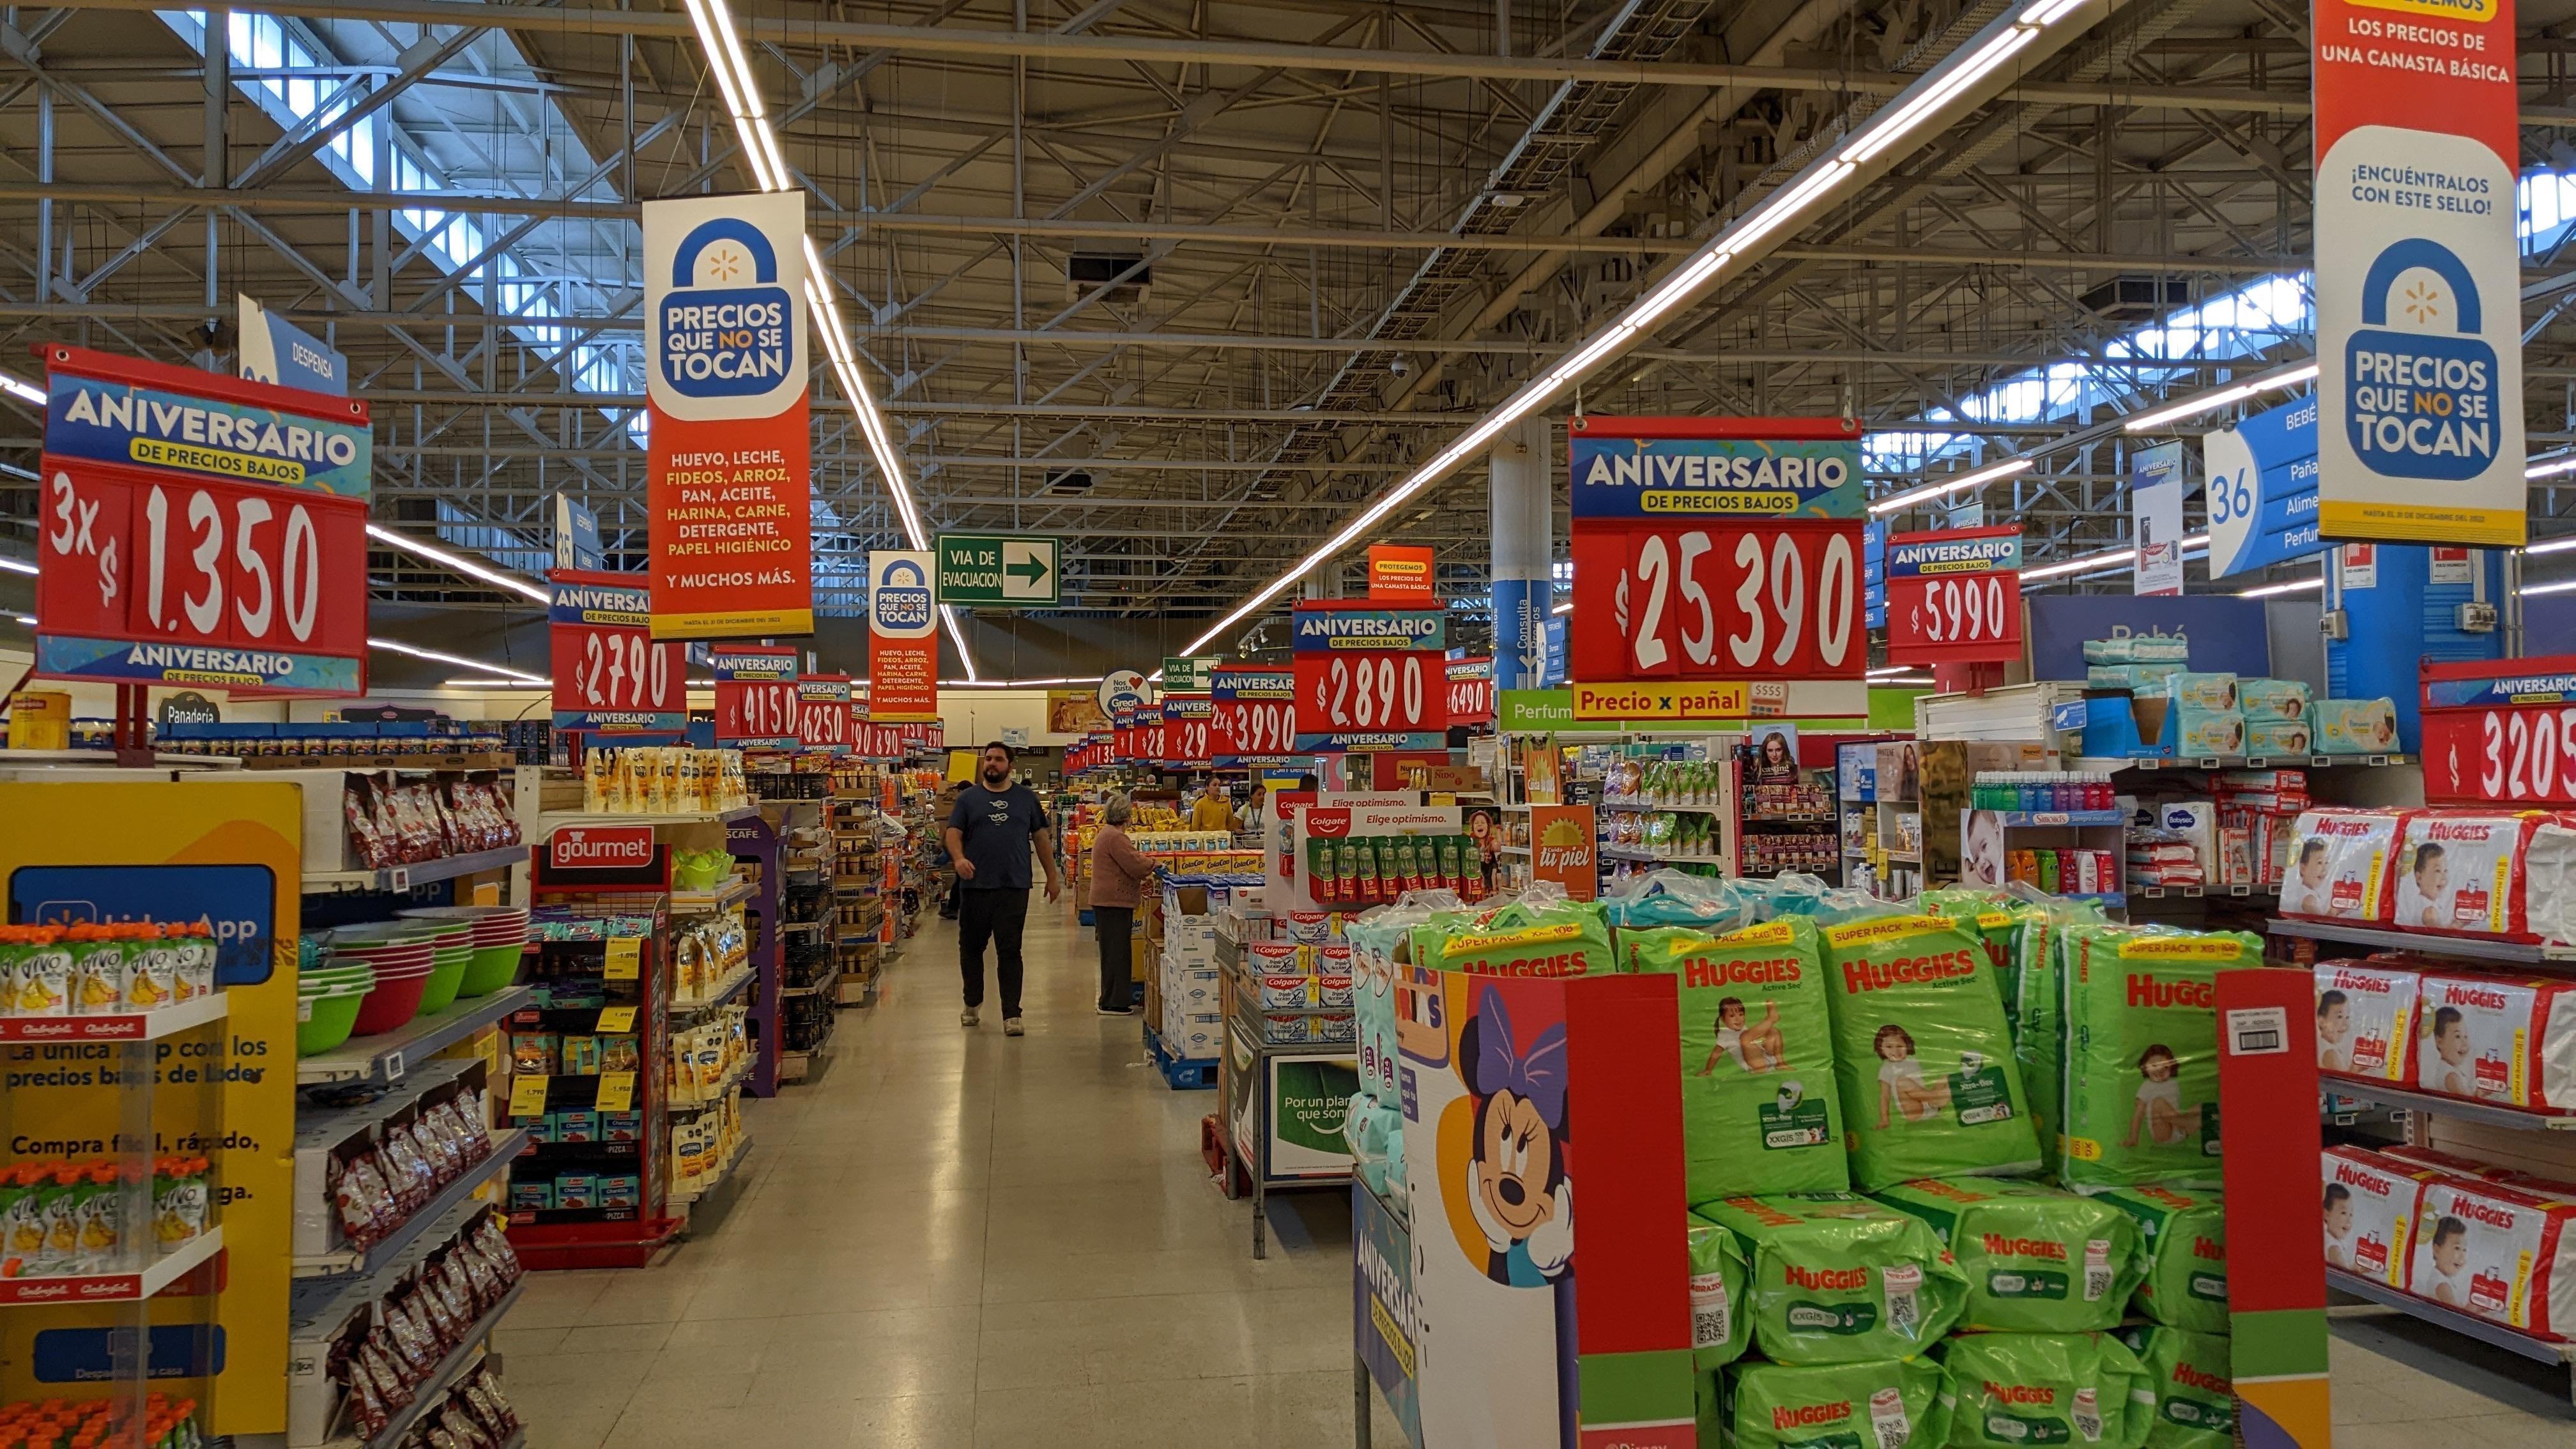right arrow: (1005, 550, 1049, 591), (1196, 665, 1212, 681)
